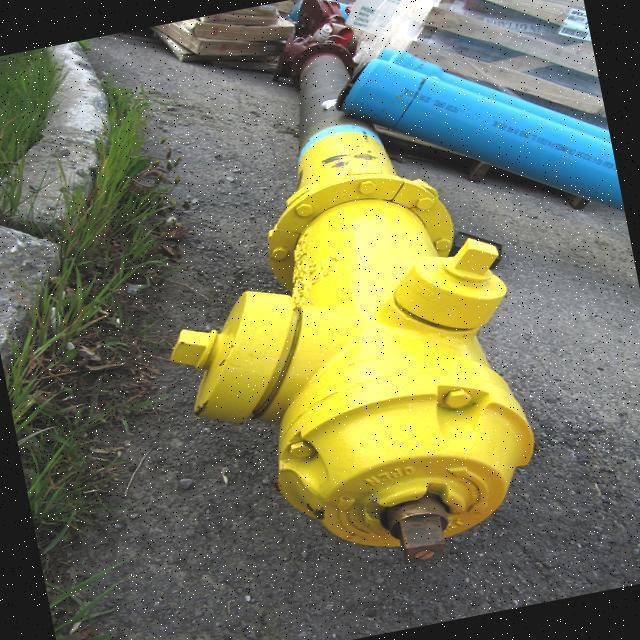fire_hydrant: (116, 15, 556, 598)
